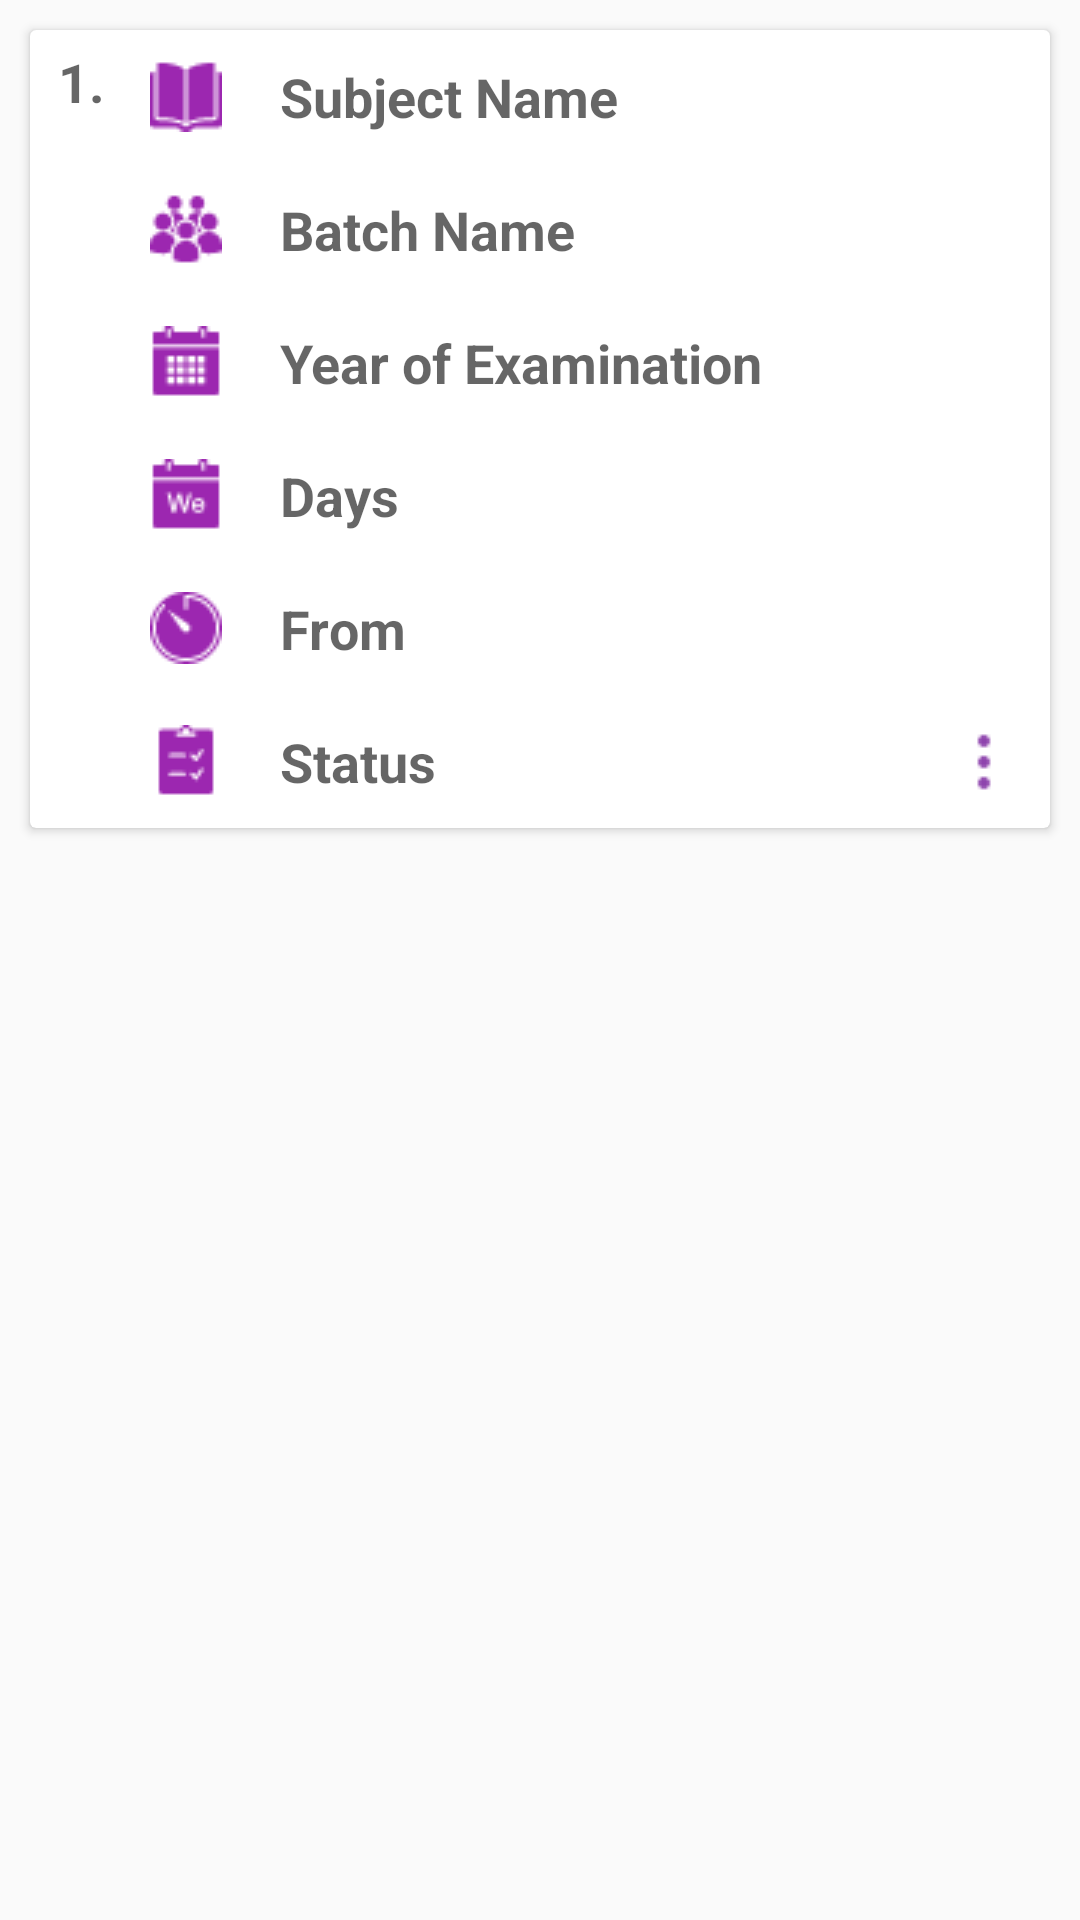

Named icons in this screenshot (1080px x 1920px) and their centers, (x=x, y=y):
more: (x=984, y=762)
